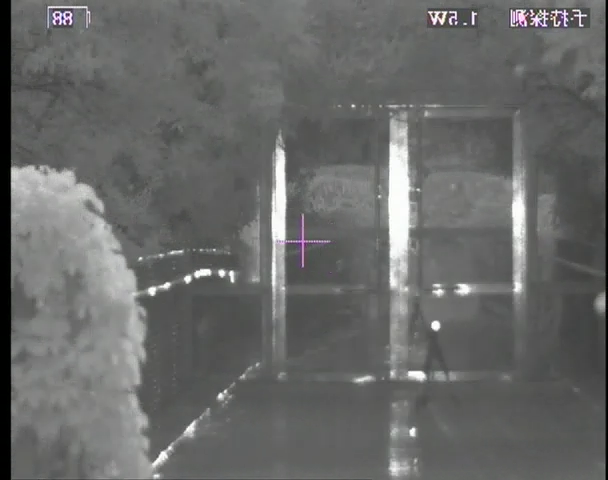my: (430, 320, 442, 333)
